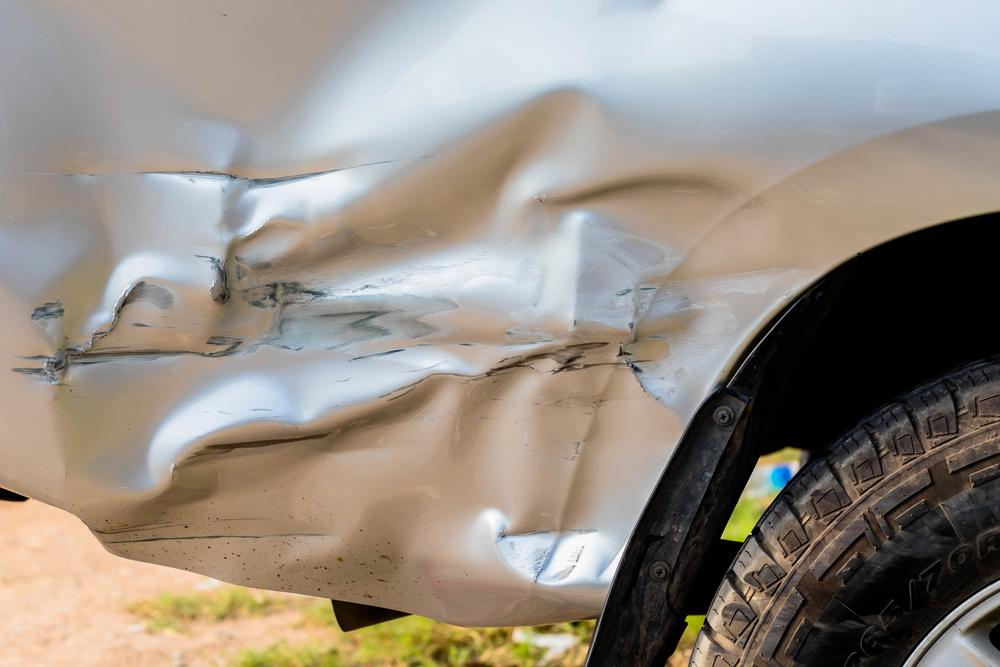dent: (0, 0, 784, 625)
